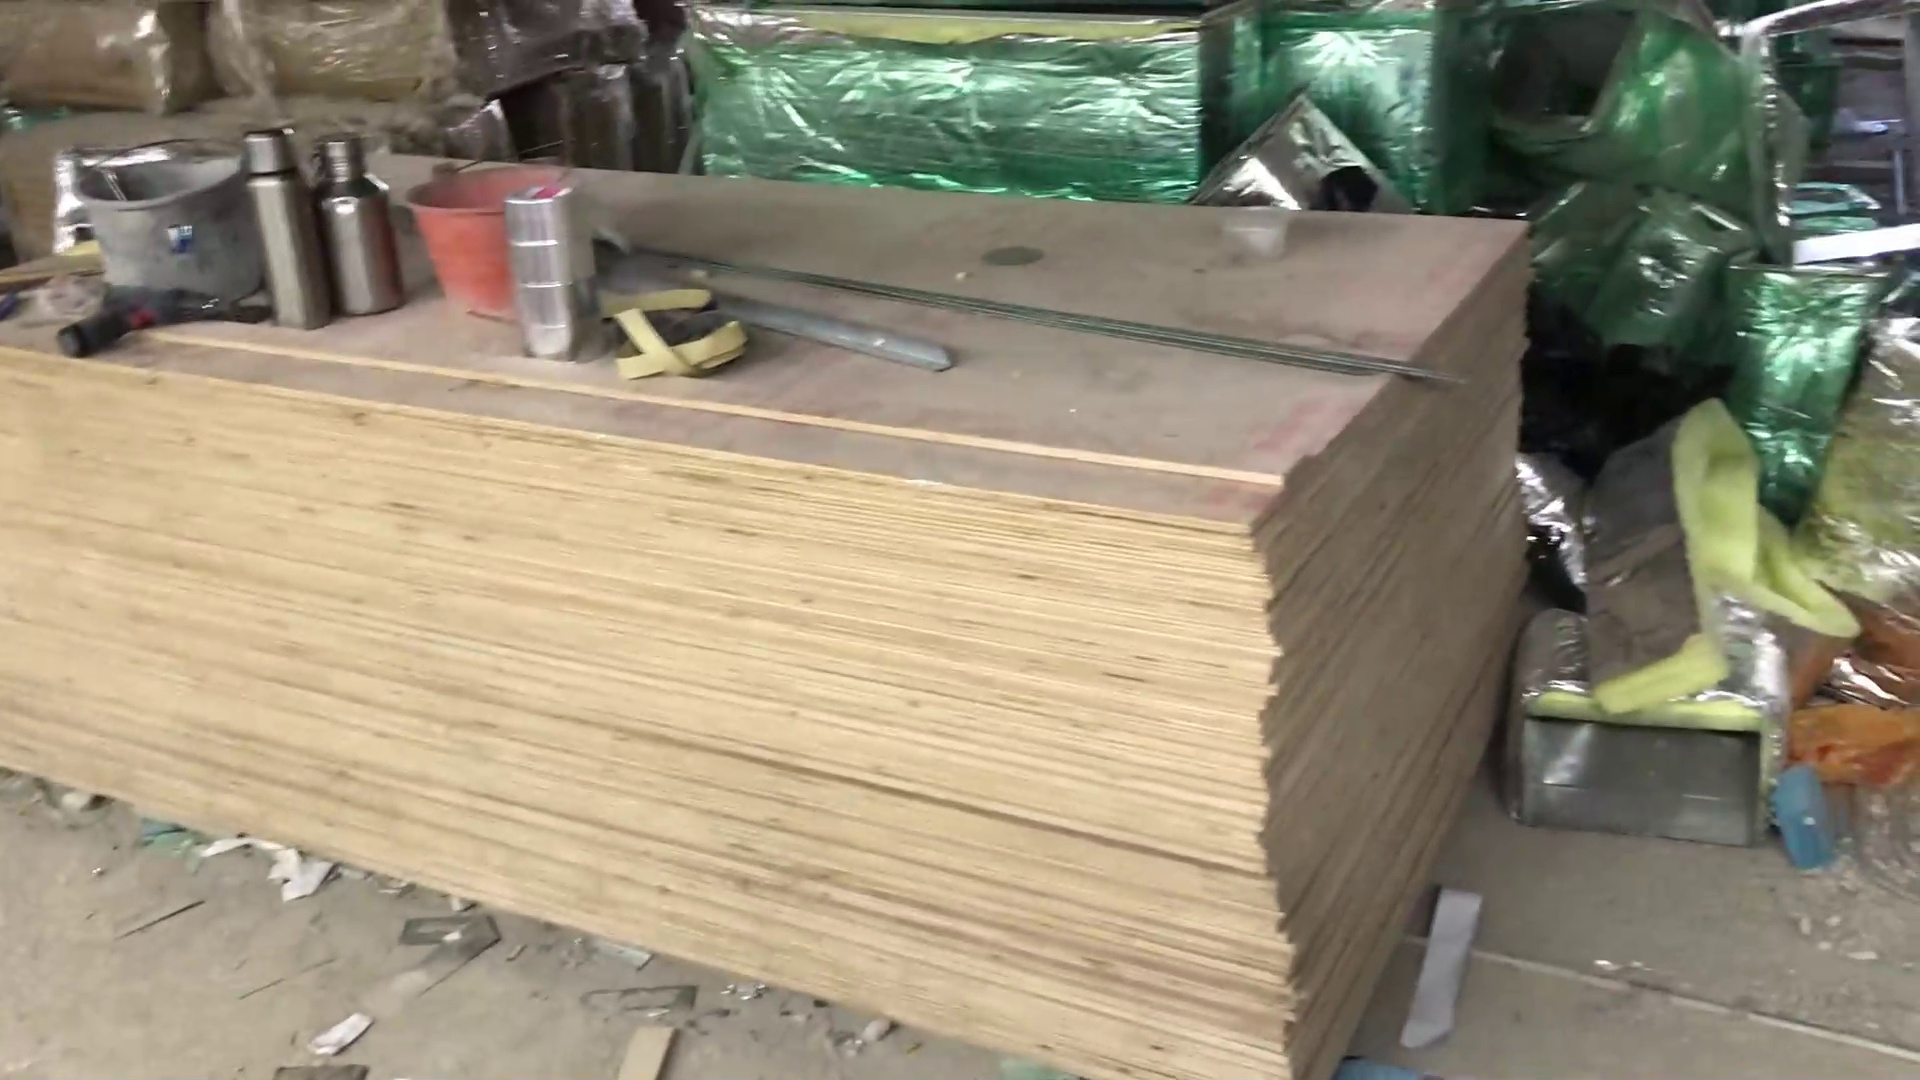board: (1, 119, 1567, 1075)
